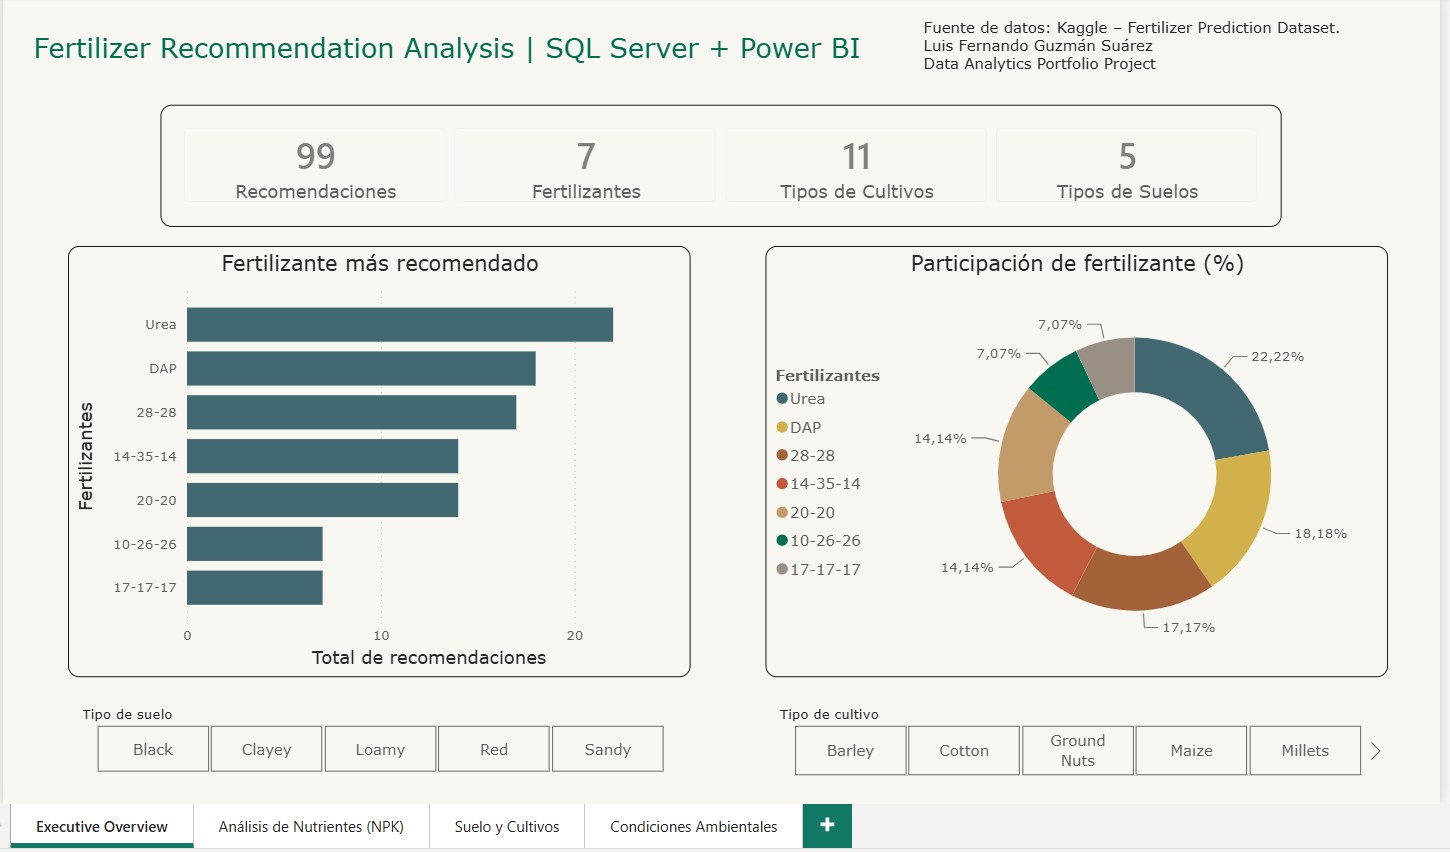

Layout of this report page (visuals, bound fields, positions):
{"tool":"powerbi","page":{"name":"Executive Overview","canvas":[1280,720],"ordinal":0},"visuals":[{"type":"clusteredBarChart","title":"Fertilizante más recomendado","fields":{"Category":["DimFertilizer.Fertilizer_Name"],"Y":["FactRecommendation.Total Recomendaciones"]},"box":[57.5,222.8,554.4,384.3],"z":0},{"type":"donutChart","title":"Participación de fertilizante (%)","fields":{"Category":["DimFertilizer.Fertilizer_Name"],"Y":["FactRecommendation.Total Recomendaciones"]},"box":[679.3,222.8,554.4,384.3],"z":1000},{"type":"slicer","fields":{"Values":["DimSoil.Soil_Type"]},"box":[57.5,626.7,554.4,71],"z":2000},{"type":"slicer","fields":{"Values":["DimCrop.Crop_Type"]},"box":[679.3,626.7,554.4,71],"z":3000},{"type":"cardVisual","fields":{"Data":["FactRecommendation.Total Recomendaciones","DimFertilizer.Fertilizantes","DimCrop.Cultivos","DimSoil.Tipos de Suelo"]},"box":[140.8,96.7,998.7,108.9],"z":4000},{"type":"textbox","box":[814.3,14.5,465.7,63.9],"z":5000},{"type":"textbox","box":[21.7,26.5,783,51.9],"z":6000}]}

Visuals, with their boxes on the page's 1280x720 design canvas (x1, y1, x2, y2). These are canvas units, not pixel positions in the 1450x852 screenshot, which may show the page scaled, cropped or inside an application window:
"Fertilizante más recomendado" clusteredBarChart: bbox=(58, 223, 612, 607)
"Participación de fertilizante (%)" donutChart: bbox=(679, 223, 1234, 607)
slicer - DimSoil.Soil_Type: bbox=(58, 627, 612, 698)
slicer - DimCrop.Crop_Type: bbox=(679, 627, 1234, 698)
cardVisual - FactRecommendation.Total Recomendaciones x DimFertilizer.Fertilizantes: bbox=(141, 97, 1140, 206)
textbox: bbox=(814, 14, 1280, 78)
textbox: bbox=(22, 26, 805, 78)
